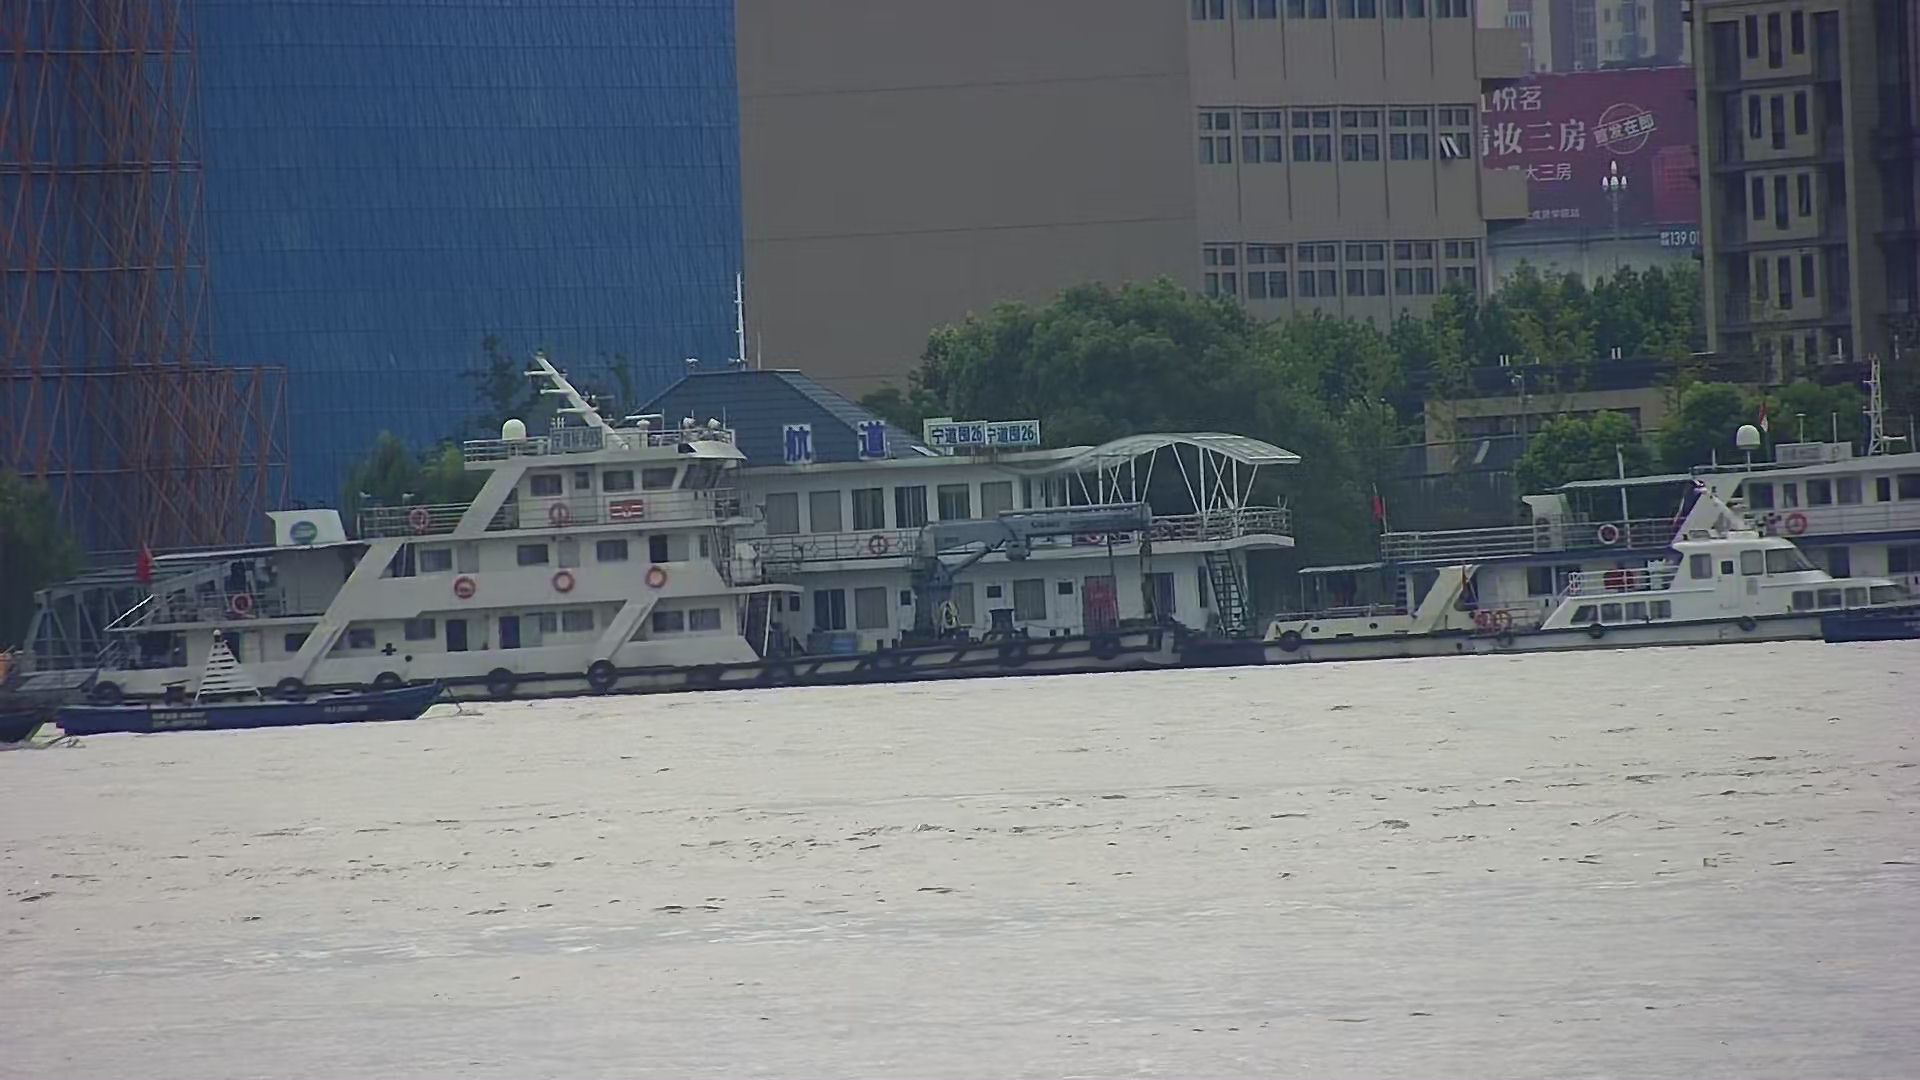boat: (1473, 472, 1920, 669), (44, 626, 469, 758)
ship: (67, 375, 757, 724), (1273, 417, 1920, 662)
